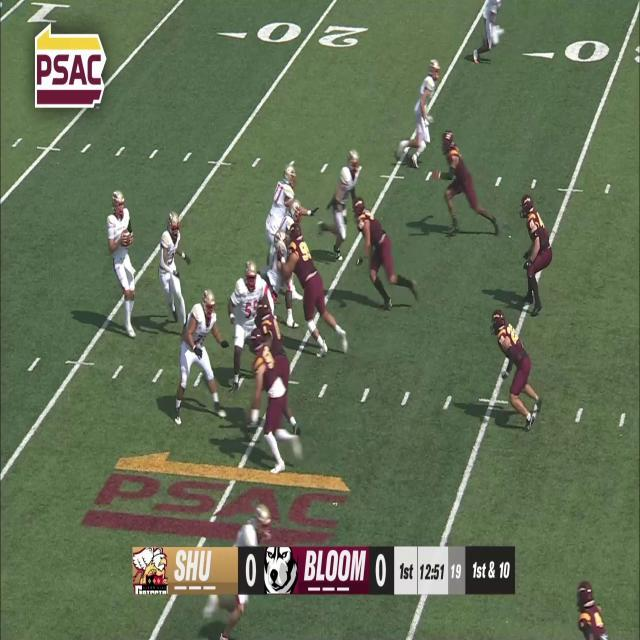football: (122, 226, 133, 247)
